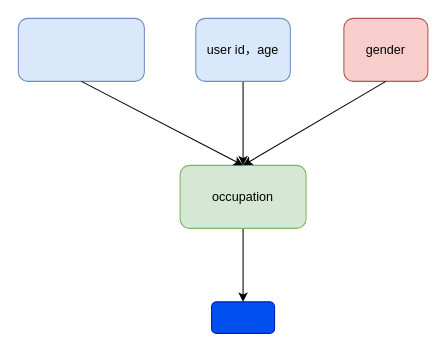
This 446x352 diagram has some shape labels left out. The centre of each missing label's shape, as x and y in pixels:
item id，title，genres: point 80,49
rating: point 243,317
